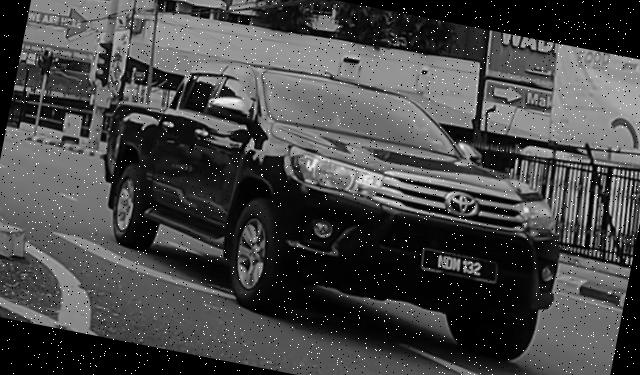License_Plate: (418, 245, 502, 286)
car: (80, 34, 591, 369)
